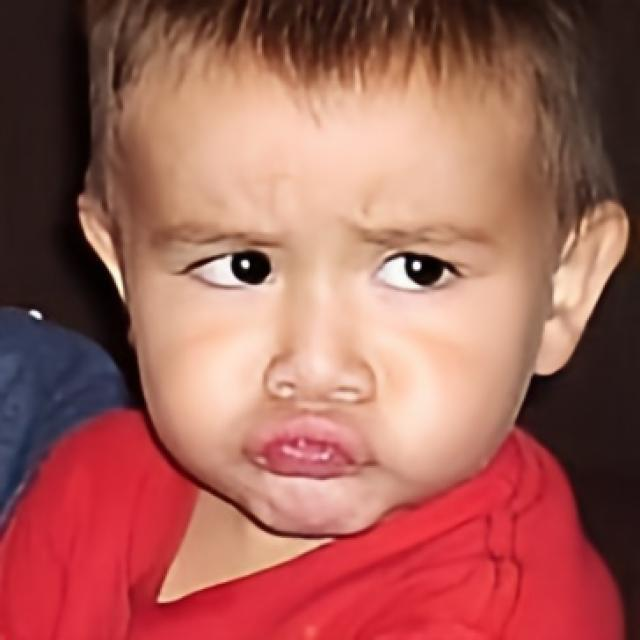disgust: (125, 0, 561, 538)
